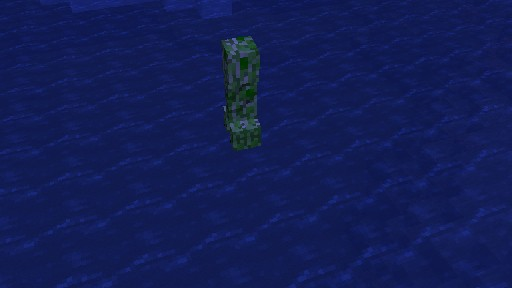creeper: (220, 35, 261, 151)
